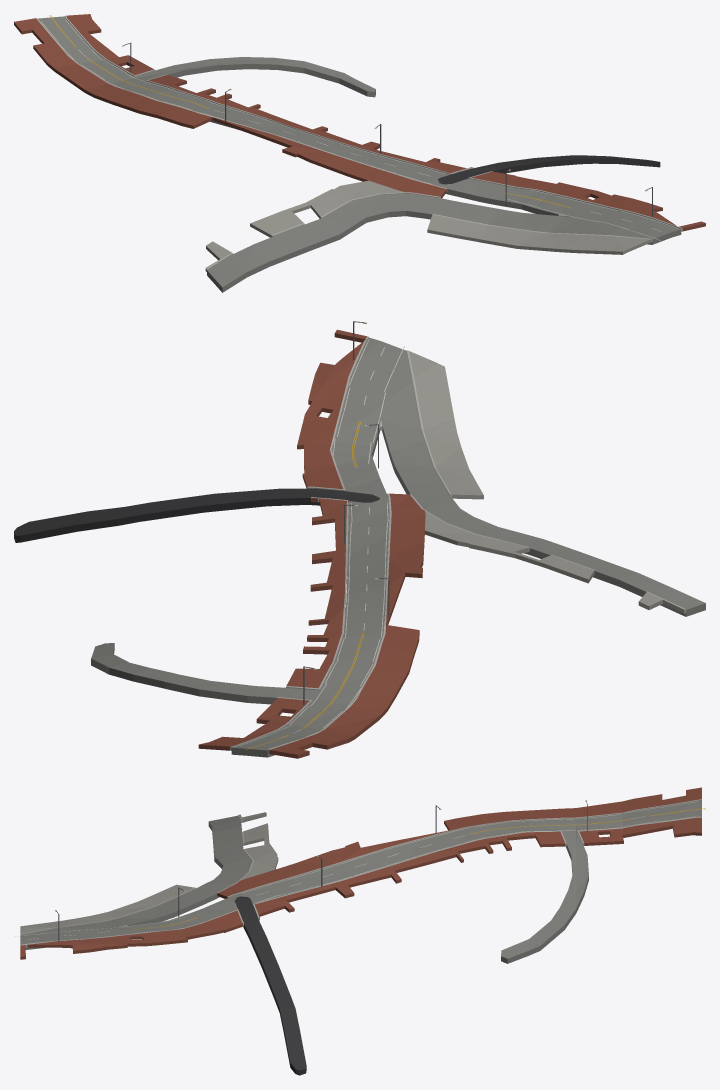
3 renders of one model, top to bottom at view 1: azimuth 30°, elevation 25°; view 2: azimuth 150°, elevation 25°; view 3: azimuth 270°, elevation 25°, orthographic. The views are drawn at different scales.
Size of the model in its own units: 113 by 24.51 by 148.
